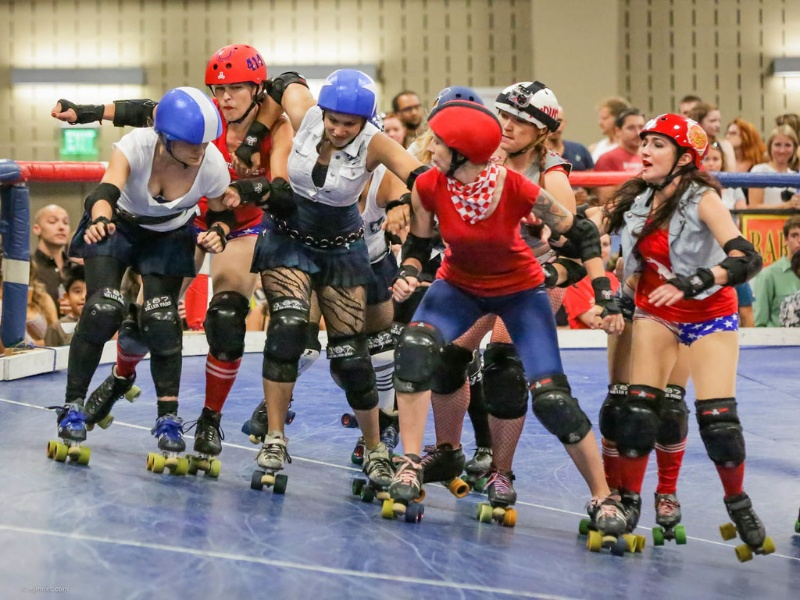Baret: (428, 100, 503, 161), (156, 87, 222, 141), (316, 68, 377, 115), (497, 81, 558, 128), (648, 113, 708, 158), (204, 44, 269, 84)
